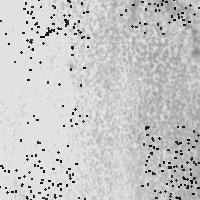pitted_surface: (57, 1, 199, 199), (141, 139, 200, 199), (27, 67, 86, 125), (20, 139, 78, 197), (145, 121, 200, 181), (29, 0, 87, 54), (0, 20, 40, 79), (22, 0, 81, 39), (26, 165, 86, 200), (120, 0, 176, 32), (0, 165, 40, 200), (160, 0, 200, 33), (168, 161, 200, 200)
